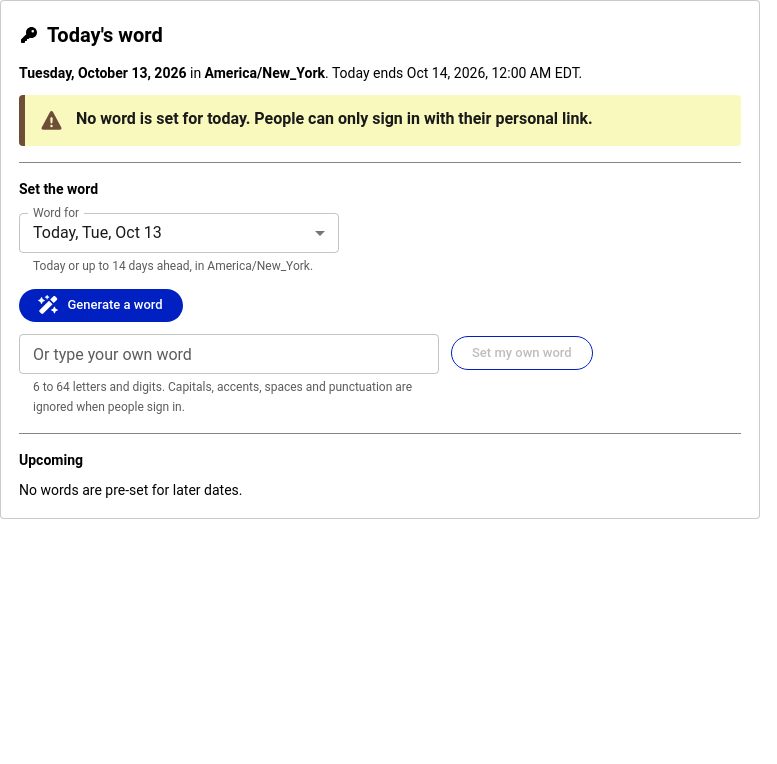
Test case: a generated word › is not in the query cache, the mutation cache, storage, the title, the URL or the console
The image size is (777, 764).
Click the button "Generate a word" at (101, 305), box [19,289,183,322]
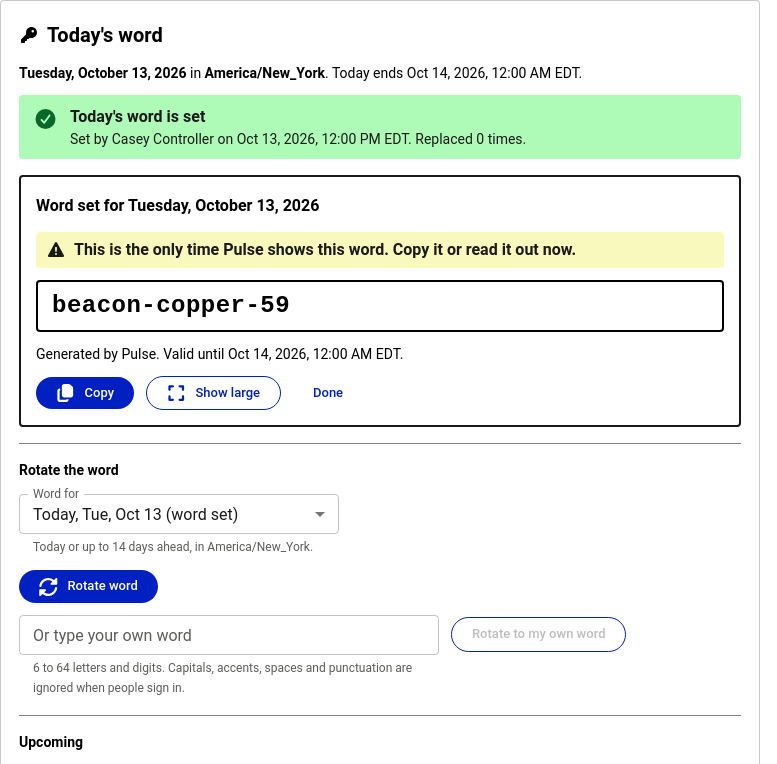
Expected: the element with test id "day-word-value" does not show ""
Result: the element with test id "day-word-result" is shown at [19,175,741,427]
Result: the element with test id "day-word-status-set" is shown at [19,95,741,159]
